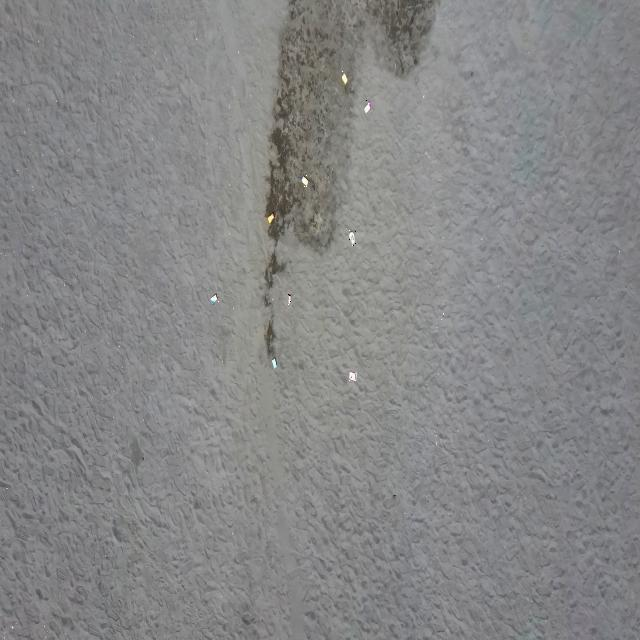Garbage: (209, 292, 218, 303), (364, 99, 371, 112), (340, 71, 347, 84), (300, 175, 307, 187), (348, 230, 354, 244), (267, 213, 275, 223), (347, 372, 355, 380), (287, 292, 291, 304), (272, 357, 276, 367)
